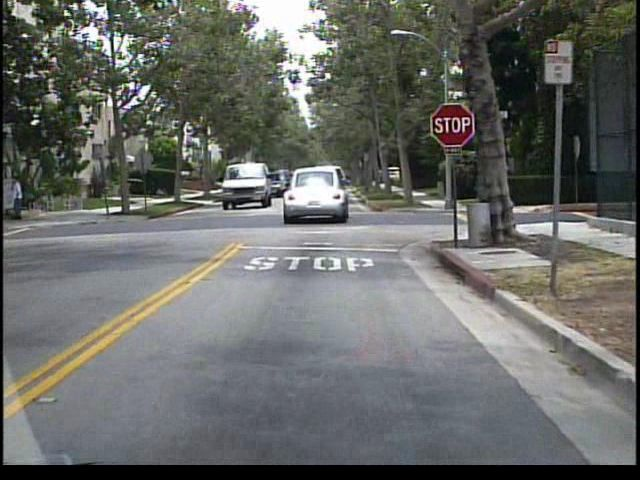person: (12, 170, 28, 224)
